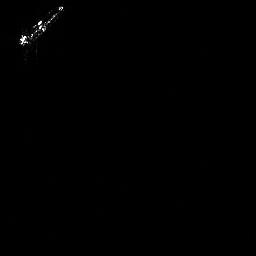ship: (12, 2, 67, 50)
